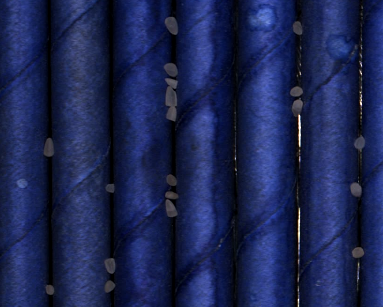broken_grain: (164, 15, 181, 39), (163, 85, 180, 107), (42, 135, 56, 159), (289, 98, 305, 119), (164, 198, 179, 220), (103, 255, 118, 276), (162, 62, 181, 78), (354, 133, 369, 153), (162, 76, 182, 90), (165, 105, 181, 122), (102, 277, 116, 294), (349, 181, 363, 198), (291, 19, 304, 37), (288, 84, 305, 97), (351, 246, 366, 260), (165, 173, 179, 187), (164, 190, 181, 201), (43, 283, 56, 297), (104, 182, 117, 195)
